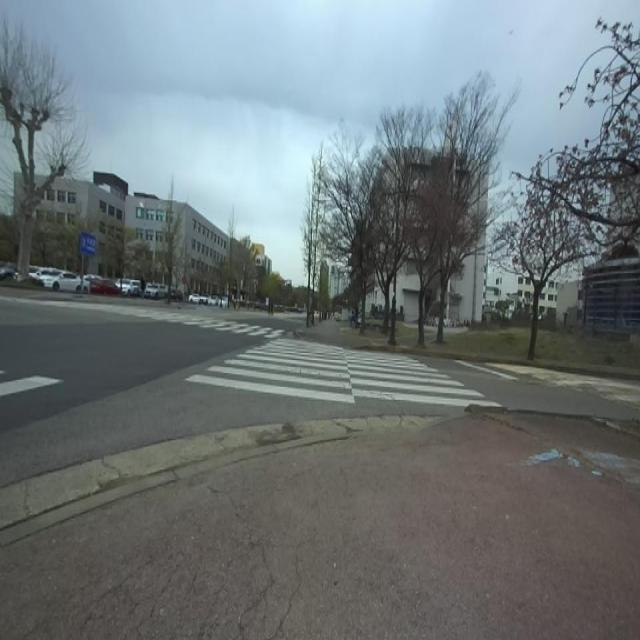sidewalk: (0, 412, 640, 639), (294, 319, 342, 345)
